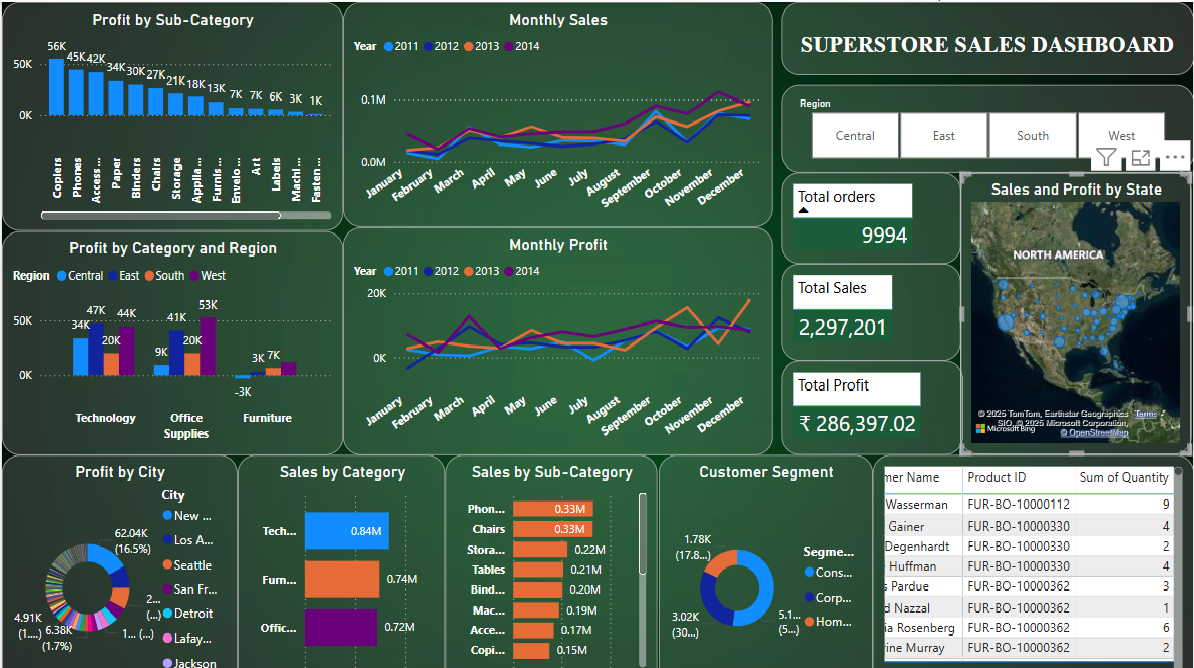

Layout of this report page (visuals, bound fields, positions):
{"tool":"powerbi","page":{"name":"Page 1","canvas":[1280,720],"ordinal":0},"visuals":[{"type":"clusteredBarChart","title":" Sales by Category","fields":{"Category":["superstore.Category"],"Y":["superstore.Sales"]},"box":[253.1,465.8,223.5,254.4],"z":0},{"type":"clusteredBarChart","title":" Sales by Sub-Category","fields":{"Category":["superstore.Sub-Category"],"Y":["superstore.Sales"]},"box":[476.6,465.8,227.5,254.4],"z":1000},{"type":"clusteredColumnChart","title":"Profit by Category and Region","fields":{"Category":["superstore.Category"],"Y":["superstore.Profit"],"Series":["superstore.Region"]},"box":[0,235.6,366.2,230.2],"z":2000},{"type":"clusteredColumnChart","title":"Profit by Sub-Category","fields":{"Category":["superstore.Sub-Category"],"Y":["superstore.Profit"]},"box":[0,0,366.2,235.6],"z":3000},{"type":"lineChart","title":" Monthly Sales","fields":{"Y":["superstore.Sales"],"Series":["superstore.Order Date.Variation.Date Hierarchy.Year"],"Category":["superstore.Order Date.Variation.Date Hierarchy.Month","superstore.Order Date.Variation.Date Hierarchy.Day"]},"box":[366.2,0,461.8,231.6],"z":4000},{"type":"lineChart","title":" Monthly Profit","fields":{"Series":["superstore.Order Date.Variation.Date Hierarchy.Year"],"Category":["superstore.Order Date.Variation.Date Hierarchy.Month","superstore.Order Date.Variation.Date Hierarchy.Day"],"Y":["superstore.Profit"]},"box":[366.2,231.6,461.8,234.2],"z":5000},{"type":"map","title":"Sales and Profit by State","fields":{"Category":["superstore.State"],"Size":["superstore.Sales"]},"box":[1029.9,175,247.7,290.8],"z":6000},{"type":"donutChart","title":"Customer Segment","fields":{"Category":["superstore.Segment"],"Y":["superstore.Customer ID"]},"box":[705.4,465.8,230.2,254.4],"z":7000},{"type":"donutChart","title":"Profit by City","fields":{"Category":["superstore.City"],"Y":["superstore.Profit"]},"box":[0,465.8,253.1,254.4],"z":8000},{"type":"slicer","title":"Region","fields":{"Values":["superstore.Region"]},"box":[837.4,84.8,442.9,90.2],"z":9000},{"type":"textbox","box":[837.4,0,442.9,75.4],"z":10000},{"type":"tableEx","fields":{"Values":["superstore.Total orders"]},"box":[837.4,175,192.5,94.2],"z":11000},{"type":"tableEx","fields":{"Values":["superstore.Customer Name","superstore.Product ID","superstore.Quantity"]},"box":[935.6,465.8,344.6,254.4],"z":12000},{"type":"tableEx","fields":{"Values":["superstore.Total Sales"]},"box":[837.4,269.2,192.5,99.6],"z":13000},{"type":"tableEx","fields":{"Values":["superstore.Total Profit"]},"box":[837.4,368.9,195.2,96.9],"z":14000}]}

Visuals, with their boxes in screenshot pixels (x1, y1, x2, y2), scaled from the page's 1280x720 canvas onto the 1194x668 screenshot:
" Sales by Category" clusteredBarChart: (x1=236, y1=432, x2=445, y2=667)
" Sales by Sub-Category" clusteredBarChart: (x1=445, y1=432, x2=657, y2=667)
"Profit by Category and Region" clusteredColumnChart: (x1=0, y1=219, x2=342, y2=432)
"Profit by Sub-Category" clusteredColumnChart: (x1=0, y1=0, x2=342, y2=219)
" Monthly Sales" lineChart: (x1=342, y1=0, x2=772, y2=215)
" Monthly Profit" lineChart: (x1=342, y1=215, x2=772, y2=432)
"Sales and Profit by State" map: (x1=961, y1=162, x2=1192, y2=432)
"Customer Segment" donutChart: (x1=658, y1=432, x2=873, y2=667)
"Profit by City" donutChart: (x1=0, y1=432, x2=236, y2=667)
"Region" slicer: (x1=781, y1=79, x2=1193, y2=162)
textbox: (x1=781, y1=0, x2=1193, y2=70)
tableEx - superstore.Total orders: (x1=781, y1=162, x2=961, y2=250)
tableEx - superstore.Customer Name x superstore.Product ID: (x1=873, y1=432, x2=1193, y2=667)
tableEx - superstore.Total Sales: (x1=781, y1=250, x2=961, y2=342)
tableEx - superstore.Total Profit: (x1=781, y1=342, x2=963, y2=432)
